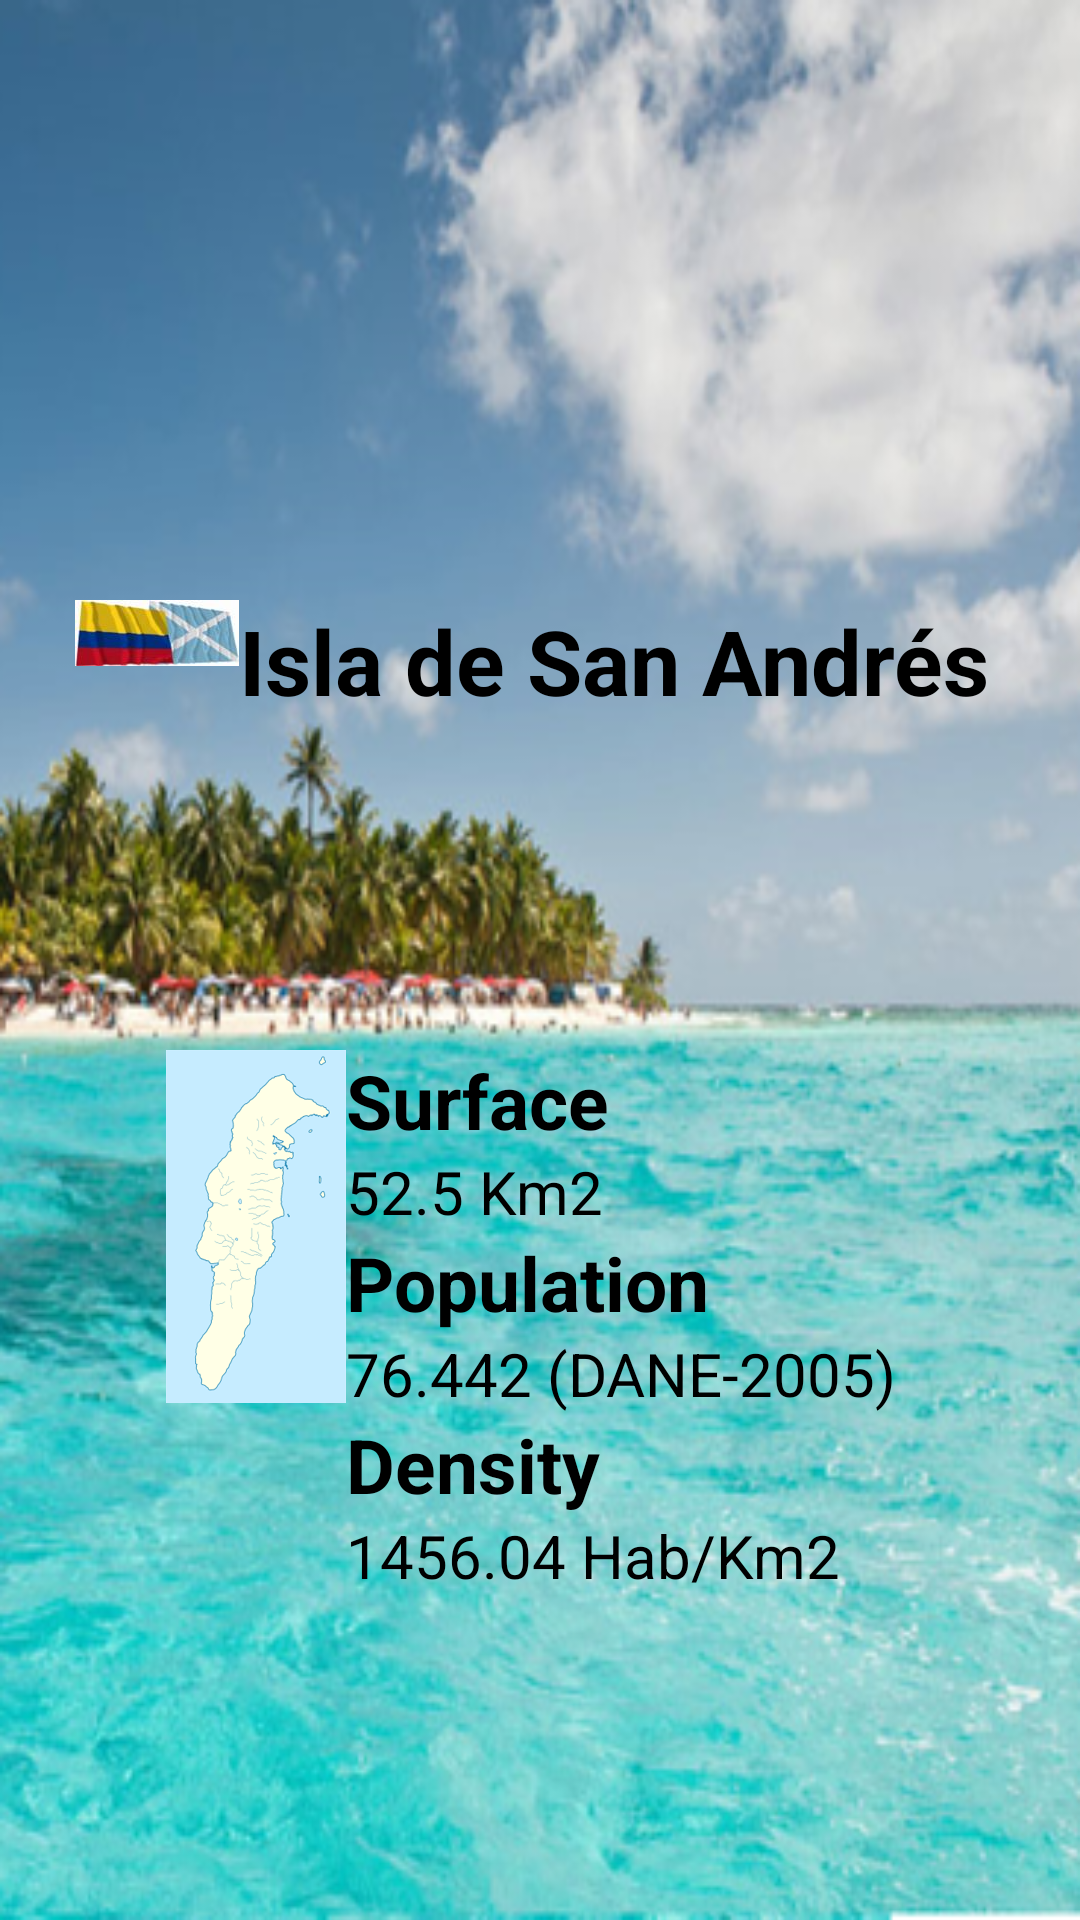

Icon click points for this 1080x1920 phone screenshot, format (x,y):
smartbandera: (157,633)
smartmapita: (256,1226)
